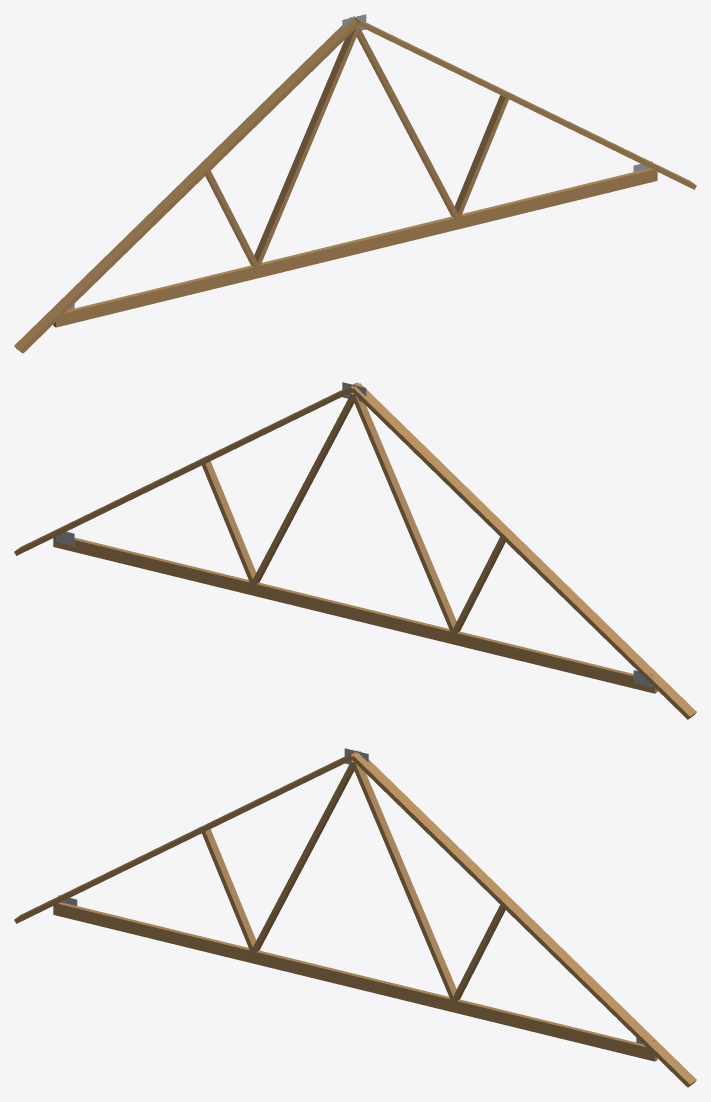
Rendered from structure.truss.fink_5.glb.
The picture shows the model from 3 angles, top to bottom: view 1: azimuth 30°, elevation 25°; view 2: azimuth 150°, elevation 25°; view 3: azimuth 330°, elevation 25°; orthographic projection.
Parts seen in each view (by area): view 1: truss__softwood; view 2: truss__softwood, truss__steel_galvanised; view 3: truss__softwood.
Part boxes in pixels (left/top/right/bottom): truss__softwood: left=14, top=16, right=696, bottom=353; truss__softwood: left=14, top=382, right=696, bottom=719; truss__steel_galvanised: left=56, top=382, right=652, bottom=687; truss__softwood: left=14, top=750, right=696, bottom=1087.
Size of the model in its own units: 5.62 by 2 by 0.097.
